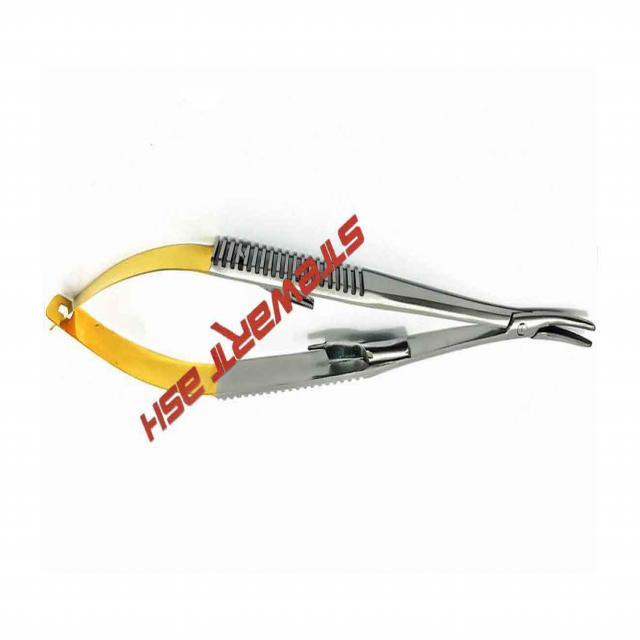Castroviejo: (41, 236, 600, 405)
